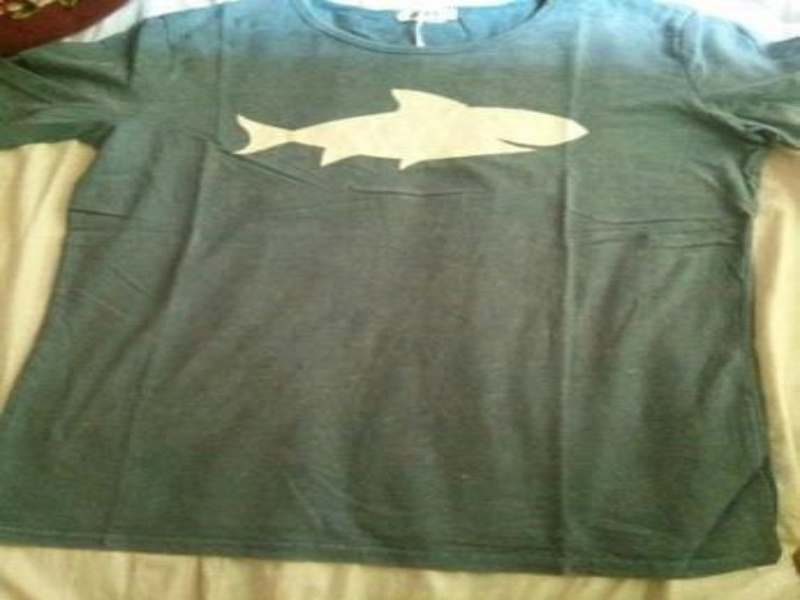short_sleeved_shirt: (0, 0, 798, 585)
